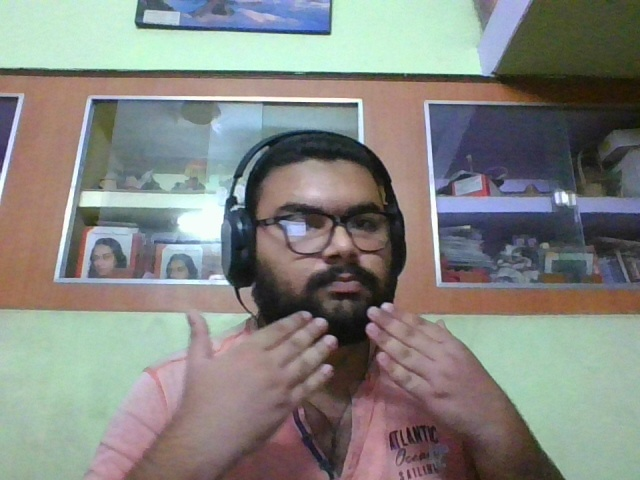thankyou: (178, 301, 519, 460)
